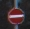No entry: (6, 6, 25, 24)
